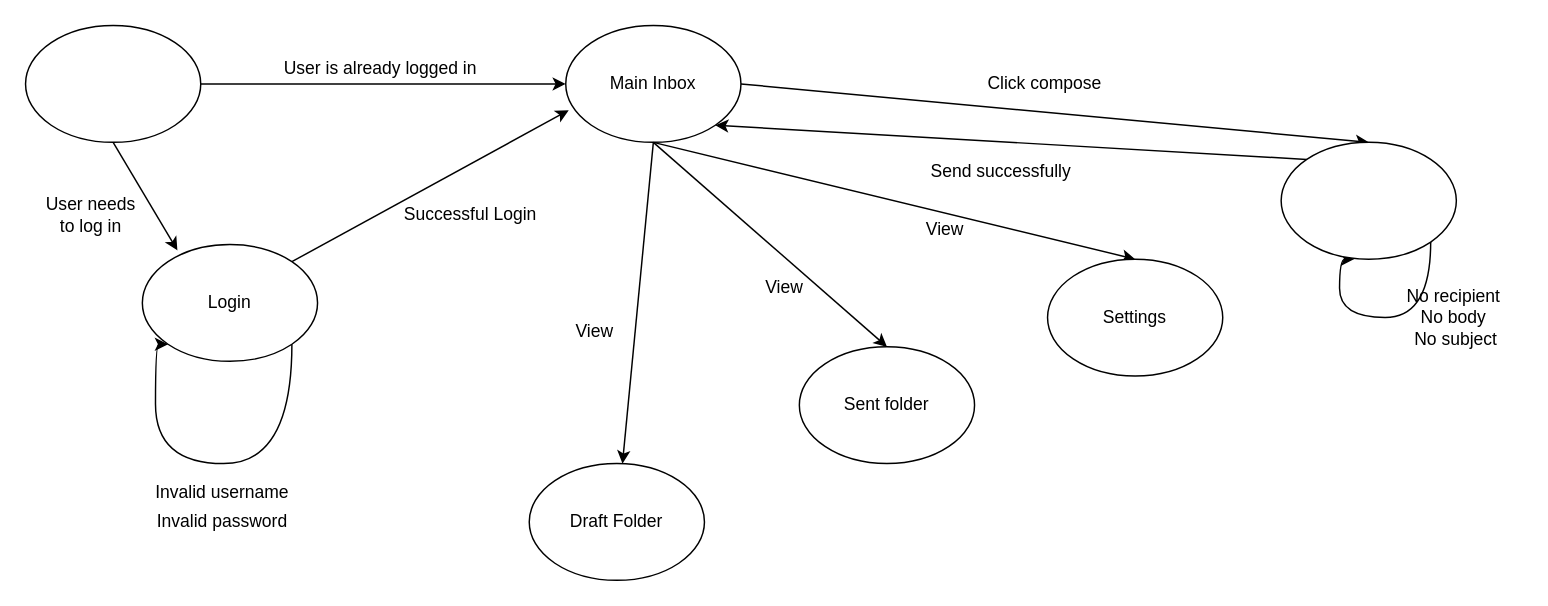
Image size: 1548x606. Some labels were removed from this diagram. The shapes that lost their labels are listed below. From the top down, each one's centre as x and y in pixels, then its label:
At point (112, 83): "Start".
At point (1368, 200): "Compose Window".
